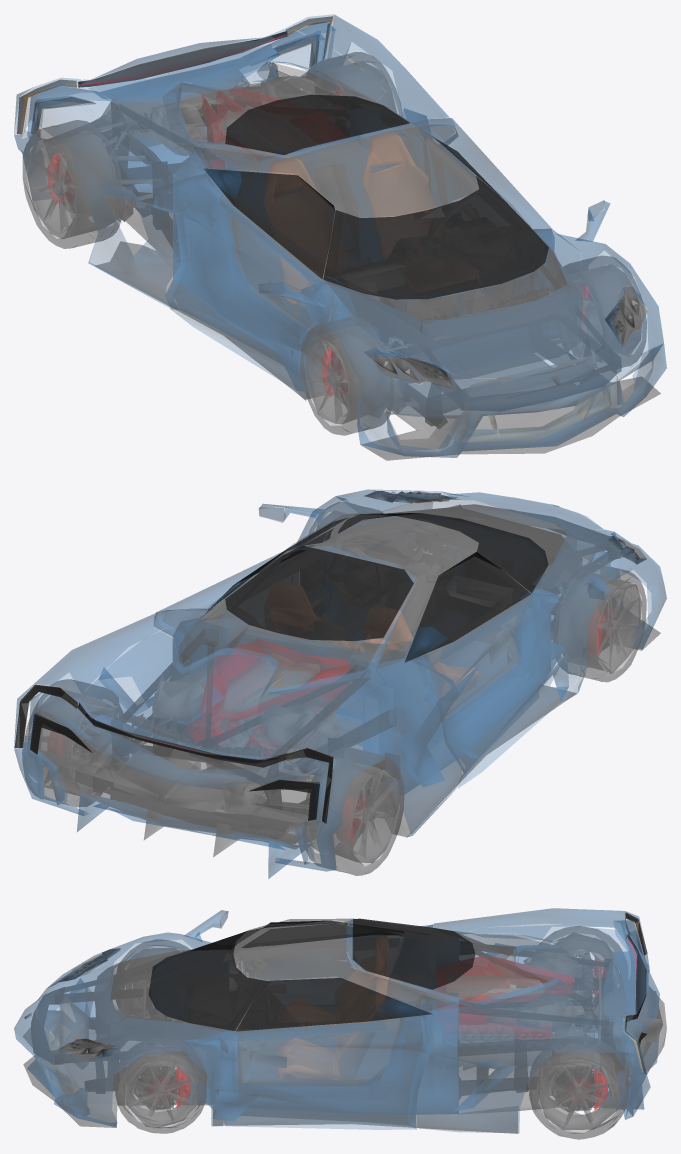
The model's file is SportsCar.glb.
3 views of the same model, one above another, from view 1: azimuth 30°, elevation 25°; view 2: azimuth 150°, elevation 25°; view 3: azimuth 270°, elevation 25° (orthographic). The views are drawn at different scales.
Parts seen in each view (by area): view 1: sportsCar; view 2: sportsCar; view 3: sportsCar.
Boxes of the visible parts, bbox=[...] form: sportsCar: bbox=[14, 14, 666, 460]; sportsCar: bbox=[14, 489, 666, 878]; sportsCar: bbox=[14, 908, 666, 1139].
Size of the model in its own units: 1.13 by 0.5455 by 2.28.
